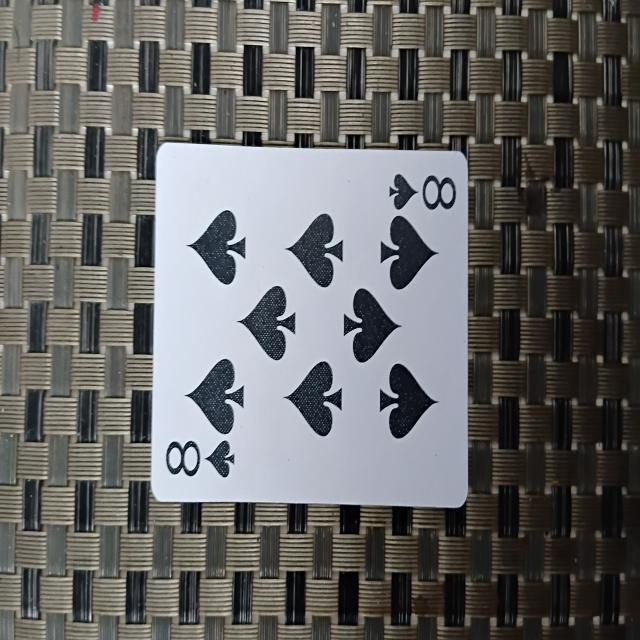8S: (158, 139, 468, 502)
